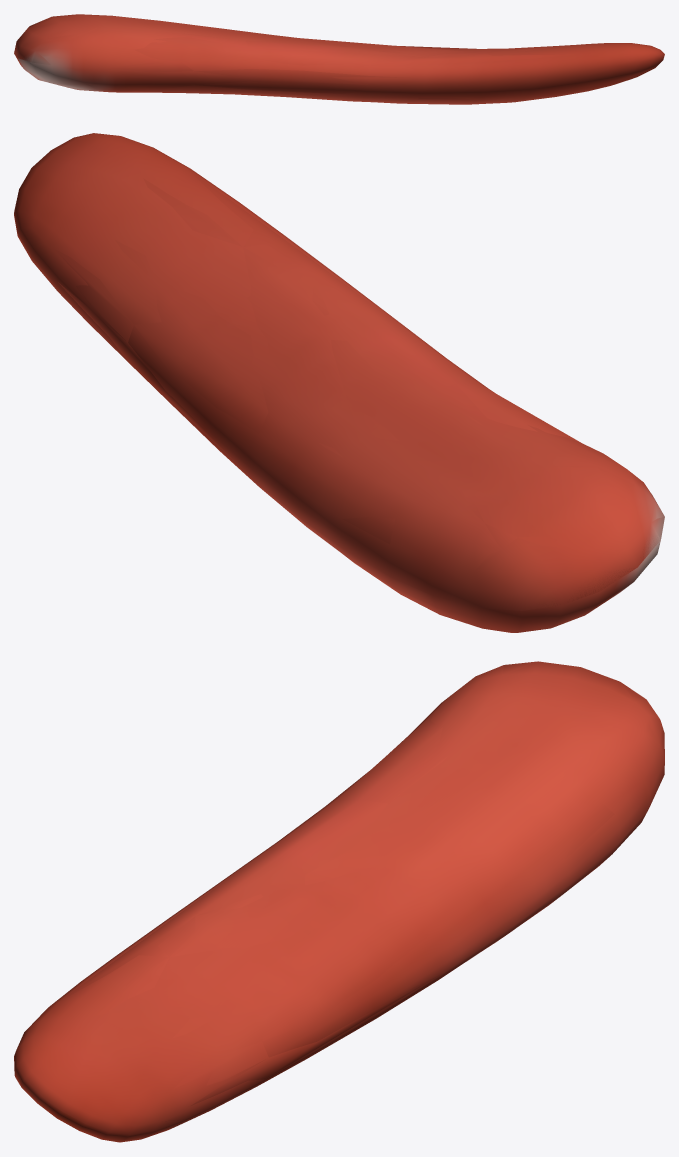
File: L pectoralis profundus.fbx
3 renders of one model, top to bottom at view 1: azimuth 30°, elevation 25°; view 2: azimuth 150°, elevation 25°; view 3: azimuth 270°, elevation 25°, orthographic. The views are drawn at different scales.
Parts seen in each view (by area): view 1: L pectoralis profundus, L pectoralis profundus low; view 2: L pectoralis profundus, L pectoralis profundus low; view 3: L pectoralis profundus, L pectoralis profundus low.
Boxes of the visible parts, x1=… form: L pectoralis profundus: x1=14, y1=14, x2=664, y2=104; L pectoralis profundus low: x1=14, y1=14, x2=577, y2=103; L pectoralis profundus: x1=14, y1=133, x2=664, y2=632; L pectoralis profundus low: x1=41, y1=168, x2=664, y2=609; L pectoralis profundus: x1=14, y1=661, x2=664, y2=1142; L pectoralis profundus low: x1=61, y1=661, x2=660, y2=1121.
Size of the model in its own units: 8.25 by 1.39 by 5.53.
